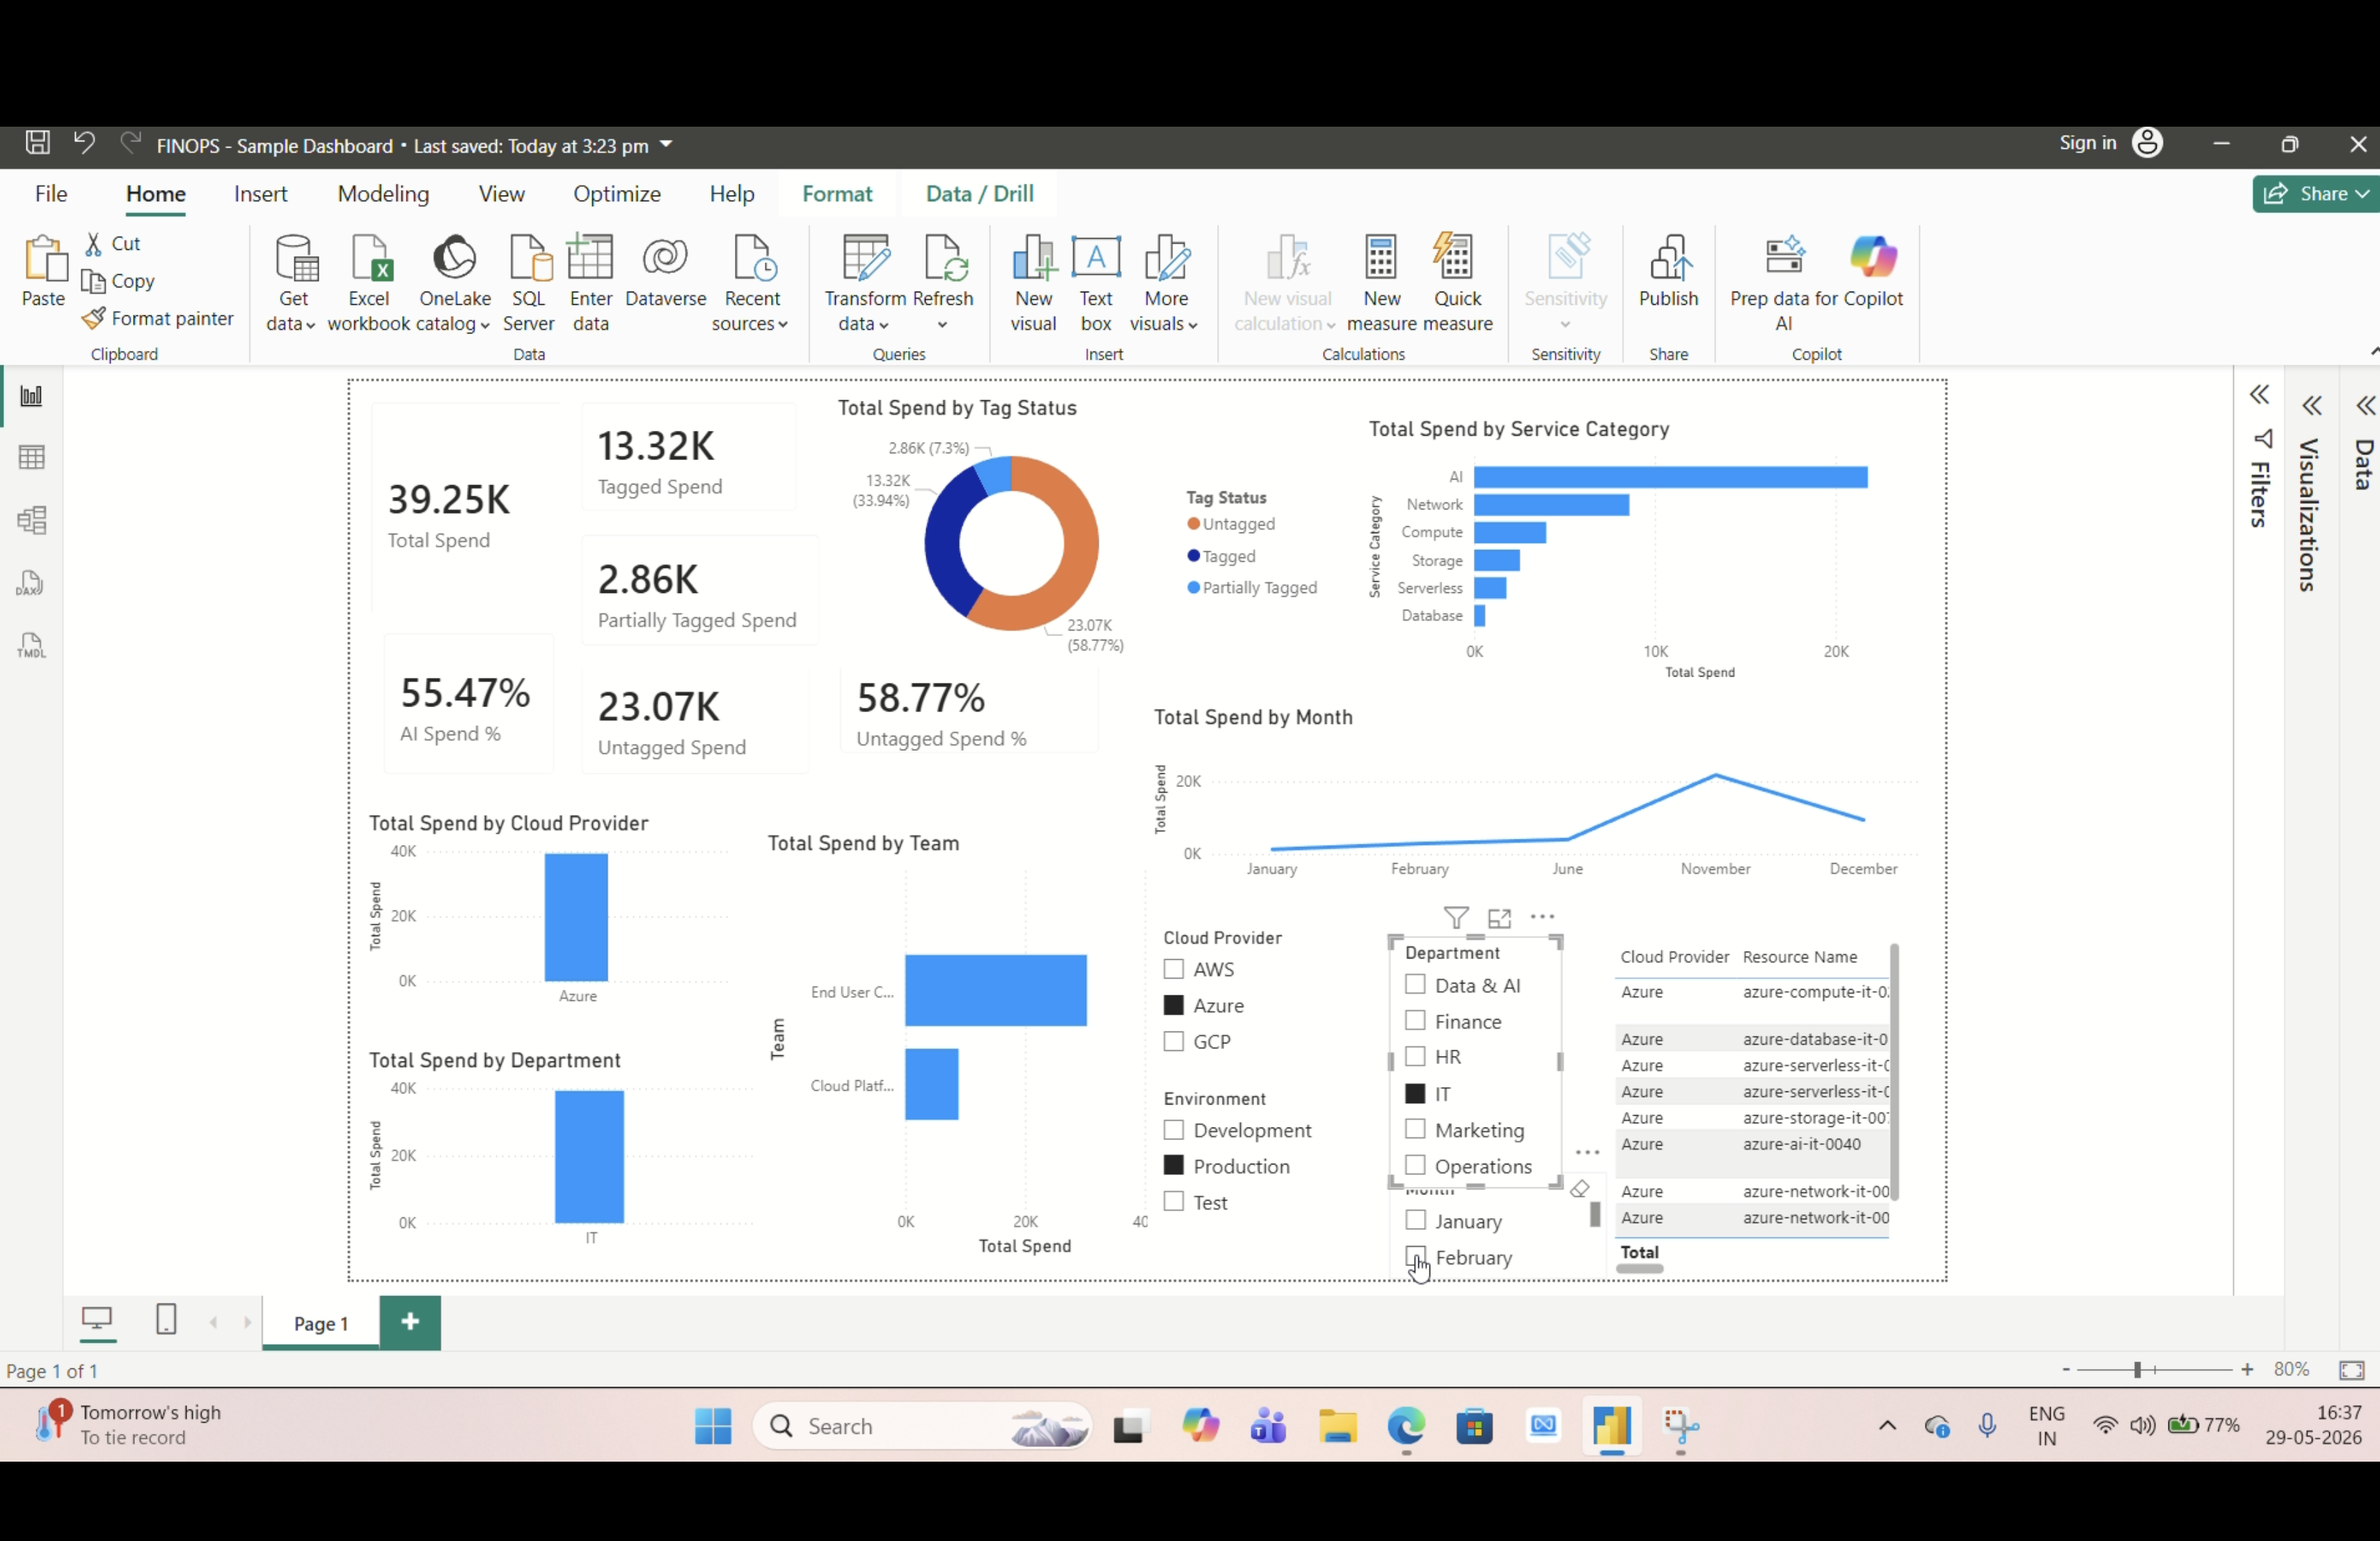

The page's visual inventory and layout, read from the dashboard file:
{"tool":"powerbi","page":{"name":"Page 1","canvas":[1280,720],"ordinal":0},"visuals":[{"type":"cardVisual","fields":{"Data":["Cloud Cost.Total Spend"]},"box":[0,0,205,206.2],"z":0},{"type":"cardVisual","fields":{"Data":["Cloud Cost.Untagged Spend"]},"box":[168.8,206.2,217.5,126.2],"z":1},{"type":"cardVisual","fields":{"Data":["Cloud Cost.Tagged Spend"]},"box":[168.8,0,207.5,121.2],"z":2},{"type":"cardVisual","fields":{"Data":["Cloud Cost.Partially Tagged Spend"]},"box":[168.8,106.2,225,123.8],"z":3},{"type":"cardVisual","fields":{"Data":["Cloud Cost.AI Spend %"]},"box":[10,185,171.2,147.5],"z":4},{"type":"cardVisual","fields":{"Data":["Cloud Cost.Untagged Spend %"]},"box":[376.2,210,242.5,105],"z":6},{"type":"clusteredColumnChart","fields":{"Category":["Cloud Cost.Cloud Provider"],"Y":["Cloud Cost.Total Spend"]},"box":[10,343.8,298.8,167.5],"z":7},{"type":"clusteredColumnChart","fields":{"Category":["Cloud Cost.Department"],"Y":["Cloud Cost.Total Spend"]},"box":[10,533.8,320,171.2],"z":8},{"type":"donutChart","fields":{"Category":["Cloud Cost.Tag Status"],"Y":["Cloud Cost.Total Spend"]},"box":[386.2,11.2,405,218.8],"z":10},{"type":"clusteredBarChart","fields":{"Category":["Cloud Cost.Team"],"Y":["Cloud Cost.Total Spend"]},"box":[330.2,359.5,322.8,346.1],"z":11},{"type":"clusteredBarChart","fields":{"Category":["Cloud Cost.Service Category"],"Y":["Cloud Cost.Total Spend"]},"box":[812.5,27.5,467.5,217.5],"z":12},{"type":"lineChart","fields":{"Category":["Cloud Cost.Month.Variation.Date Hierarchy.Month"],"Y":["Cloud Cost.Total Spend"]},"box":[639.5,259.2,627.3,150.4],"z":13},{"type":"slicer","fields":{"Values":["Cloud Cost.Cloud Provider"]},"box":[639.5,432.9,143.1,119.8],"z":14},{"type":"slicer","fields":{"Values":["Cloud Cost.Environment"]},"box":[639.5,561.3,151.6,144.3],"z":15},{"type":"slicer","fields":{"Values":["Cloud Cost.Department"]},"box":[834,445.1,138.2,203],"z":16},{"type":"slicer","fields":{"Values":["Cloud Cost.Month.Variation.Date Hierarchy.Month"]},"box":[834.3,634,174.3,86.4],"z":17},{"type":"tableEx","fields":{"Values":["Cloud Cost.Cloud Provider","Cloud Cost.Resource Name","Cloud Cost.Department","Cloud Cost.Team","Cloud Cost.Service Category","Sum(Cloud Cost.Cost GBP)","Cloud Cost.Tag Status","Cloud Cost.Owner Tag","Cloud Cost.Cost Centre Tag","Cloud Cost.Optimisation Recommendation"]},"box":[1008.6,444.6,240.1,275.8],"z":18}]}

Visuals, with their boxes on the page's 1280x720 design canvas (x1, y1, x2, y2). These are canvas units, not pixel positions in the 2380x1541 screenshot, which may show the page scaled, cropped or inside an application window:
cardVisual - Cloud Cost.Total Spend: 0:0:205:206
cardVisual - Cloud Cost.Untagged Spend: 169:206:386:332
cardVisual - Cloud Cost.Tagged Spend: 169:0:376:121
cardVisual - Cloud Cost.Partially Tagged Spend: 169:106:394:230
cardVisual - Cloud Cost.AI Spend %: 10:185:181:332
cardVisual - Cloud Cost.Untagged Spend %: 376:210:619:315
clusteredColumnChart - Cloud Cost.Cloud Provider x Cloud Cost.Total Spend: 10:344:309:511
clusteredColumnChart - Cloud Cost.Department x Cloud Cost.Total Spend: 10:534:330:705
donutChart - Cloud Cost.Tag Status x Cloud Cost.Total Spend: 386:11:791:230
clusteredBarChart - Cloud Cost.Team x Cloud Cost.Total Spend: 330:360:653:706
clusteredBarChart - Cloud Cost.Service Category x Cloud Cost.Total Spend: 812:28:1280:245
lineChart - Cloud Cost.Month.Variation.Date Hierarchy.Month x Cloud Cost.Total Spend: 640:259:1267:410
slicer - Cloud Cost.Cloud Provider: 640:433:783:553
slicer - Cloud Cost.Environment: 640:561:791:706
slicer - Cloud Cost.Department: 834:445:972:648
slicer - Cloud Cost.Month.Variation.Date Hierarchy.Month: 834:634:1009:720
tableEx - Cloud Cost.Cloud Provider x Cloud Cost.Resource Name: 1009:445:1249:720
